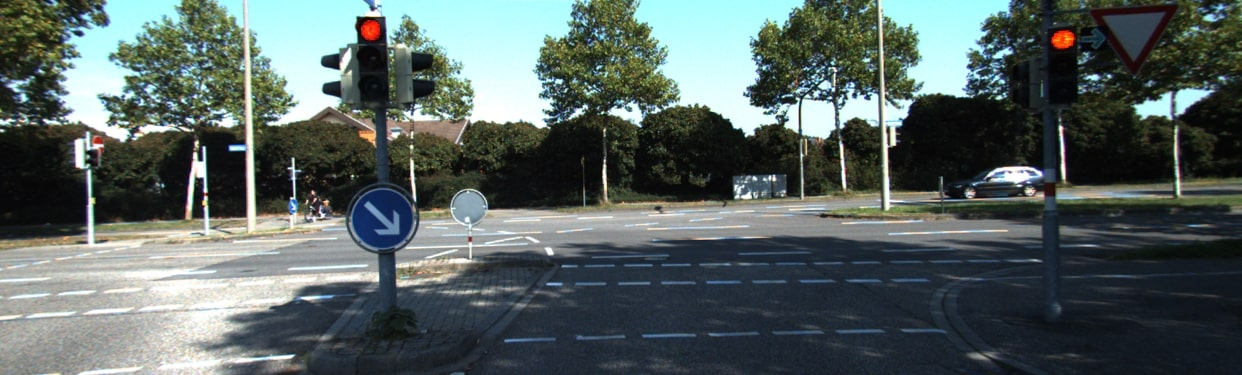Cyclist: (298, 187, 342, 224)
car: (942, 156, 1062, 200)
